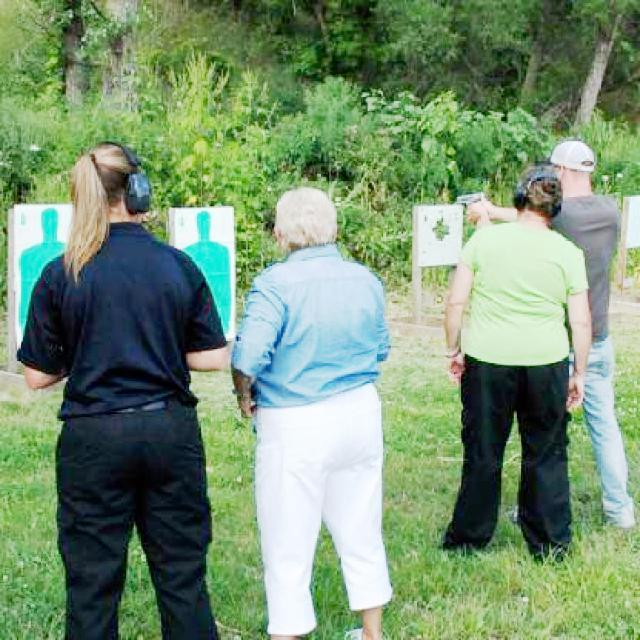Gun: (457, 178, 498, 216)
